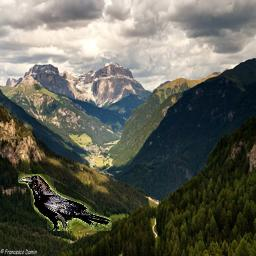Crow: (18, 174, 112, 231)
